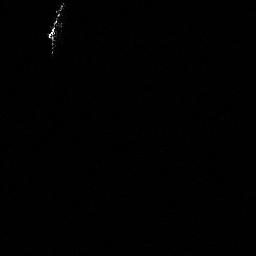ship: (47, 1, 66, 56)
